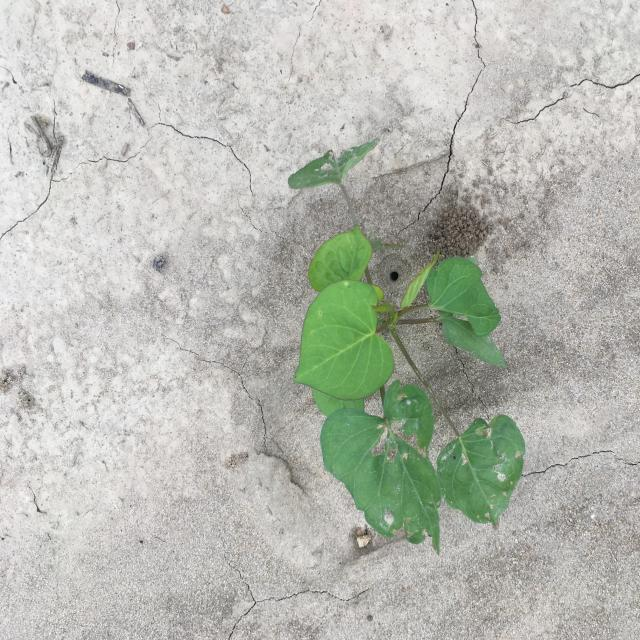MorningGlory: (288, 138, 526, 556)
